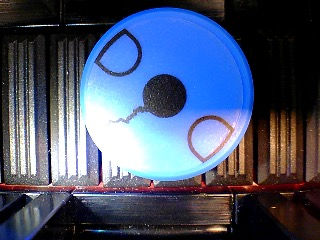CRACK: (80, 7, 255, 180)
